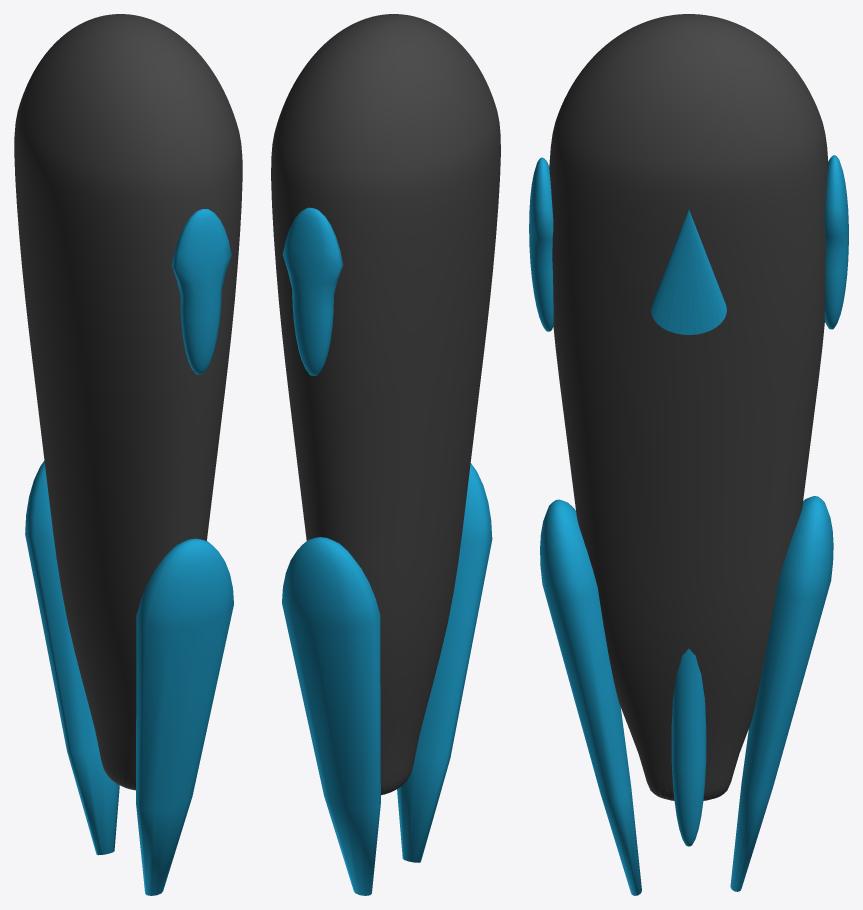
The model's file is newestRocket2k18.fbx.
3 renders of one model, left to right at view 1: azimuth 30°, elevation 25°; view 2: azimuth 150°, elevation 25°; view 3: azimuth 270°, elevation 25°, orthographic. The views are drawn at different scales.
Parts seen in each view (by area): view 1: Main:_Body, Left_Exhaust, Right_Exhaust, Top_Upper_Left_Part; view 2: Main:_Body, Right_Exhaust, Left_Exhaust, Top_Upper_Right_Part; view 3: Main:_Body, Left_Exhaust, Right_Exhaust, TAils, Cone, Top_Upper_Right_Part, Top_Upper_Left_Part.
Boxes of the visible parts, x1,y1,x2,y2 form: Main:_Body: (14, 14, 242, 790); Left_Exhaust: (136, 538, 233, 895); Right_Exhaust: (25, 461, 119, 855); Top_Upper_Left_Part: (171, 209, 231, 374); Main:_Body: (271, 14, 500, 795); Right_Exhaust: (282, 537, 380, 895); Left_Exhaust: (397, 463, 492, 862); Top_Upper_Right_Part: (282, 207, 342, 375); Main:_Body: (549, 14, 828, 800); Left_Exhaust: (540, 499, 641, 895); Right_Exhaust: (730, 496, 833, 891); TAils: (671, 649, 706, 846); Cone: (651, 210, 726, 334); Top_Upper_Right_Part: (824, 155, 848, 329); Top_Upper_Left_Part: (529, 157, 553, 331).
Size of the model in its own units: 80.31 by 350 by 116.
